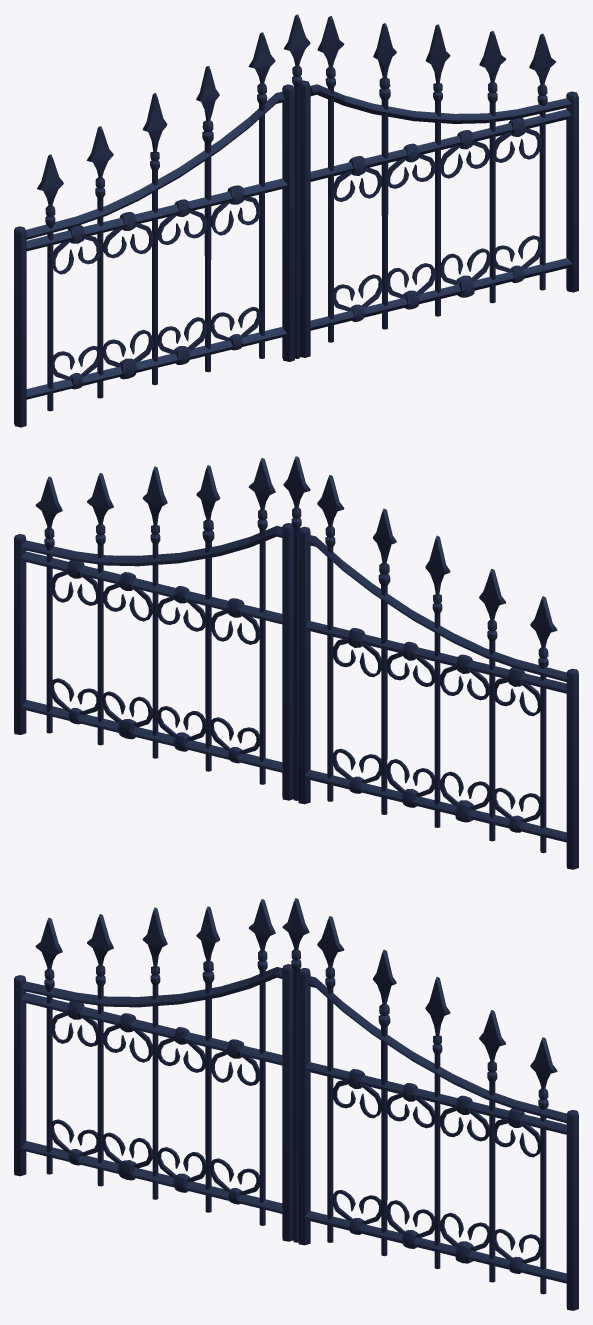
Rendered from Iron_Gate.fbx.
3 renders of one model, top to bottom at view 1: azimuth 30°, elevation 25°; view 2: azimuth 150°, elevation 25°; view 3: azimuth 330°, elevation 25°, orthographic.
Parts seen in each view (by area): view 1: Iron_Gate_Left, Iron_Gate_Right, Iron_Gate_Middle; view 2: Iron_Gate_Left, Iron_Gate_Right, Iron_Gate_Middle; view 3: Iron_Gate_Right, Iron_Gate_Left, Iron_Gate_Middle.
Boxes of the visible parts, x1,y1,x2,y2 form: Iron_Gate_Left: (14, 32, 294, 427); Iron_Gate_Right: (300, 16, 578, 357); Iron_Gate_Middle: (284, 14, 310, 358); Iron_Gate_Left: (298, 475, 578, 869); Iron_Gate_Right: (14, 458, 293, 800); Iron_Gate_Middle: (283, 456, 310, 800); Iron_Gate_Right: (298, 916, 578, 1310); Iron_Gate_Left: (14, 899, 293, 1241); Iron_Gate_Middle: (282, 898, 309, 1242).
Bounding box in the file's own units: 24.78 × 14.4 × 0.6549.
